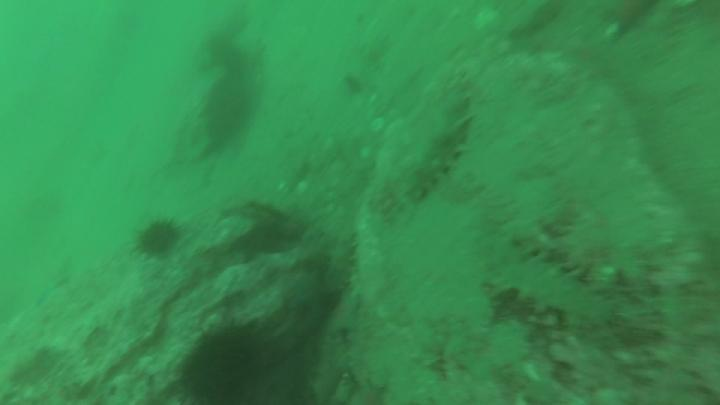echinus: (178, 320, 268, 405), (132, 215, 184, 262)
holothurian: (396, 71, 476, 212), (487, 262, 610, 332), (517, 227, 603, 281), (321, 219, 363, 304)
starfish: (318, 293, 368, 342)
